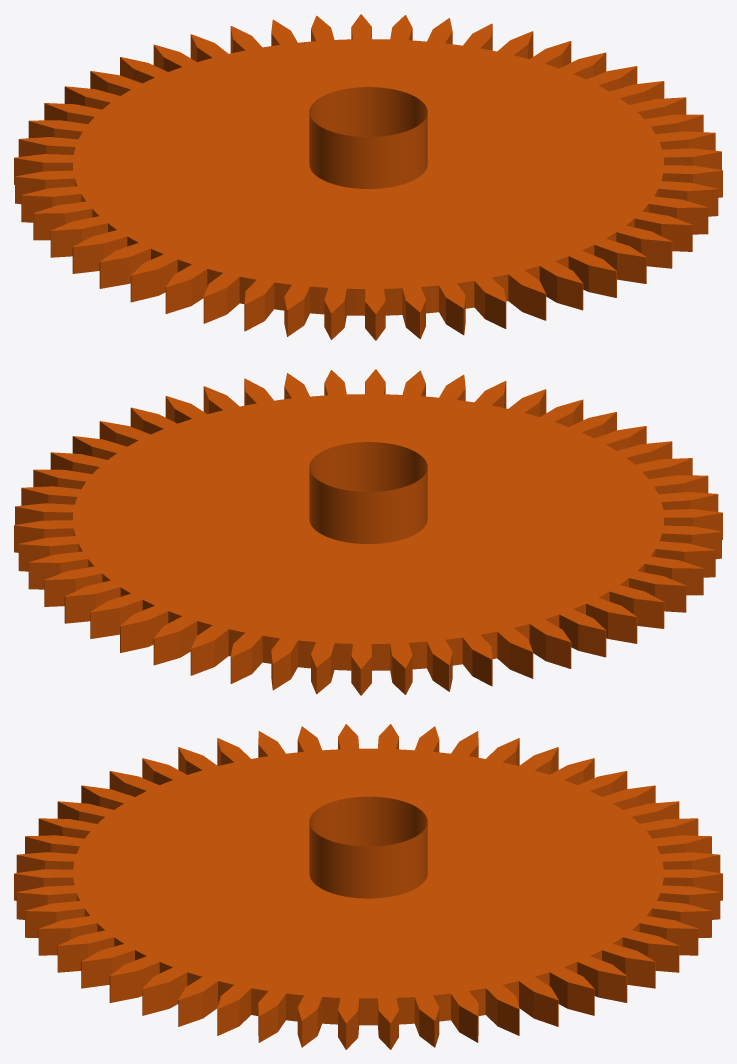
Rendered from engranaje_esquinas_naranja.dae.
The picture shows the model from 3 angles, top to bottom: view 1: azimuth 30°, elevation 25°; view 2: azimuth 150°, elevation 25°; view 3: azimuth 270°, elevation 25°; orthographic projection.
Parts seen in each view (by area): view 1: Gear; view 2: Gear; view 3: Gear.
Boxes of the visible parts, left/top/right/bottom form: Gear: left=14, top=14, right=722, bottom=340; Gear: left=14, top=369, right=722, bottom=695; Gear: left=14, top=724, right=722, bottom=1049.
Size of the model in its own units: 0.2395 by 0.24 by 0.0294.
